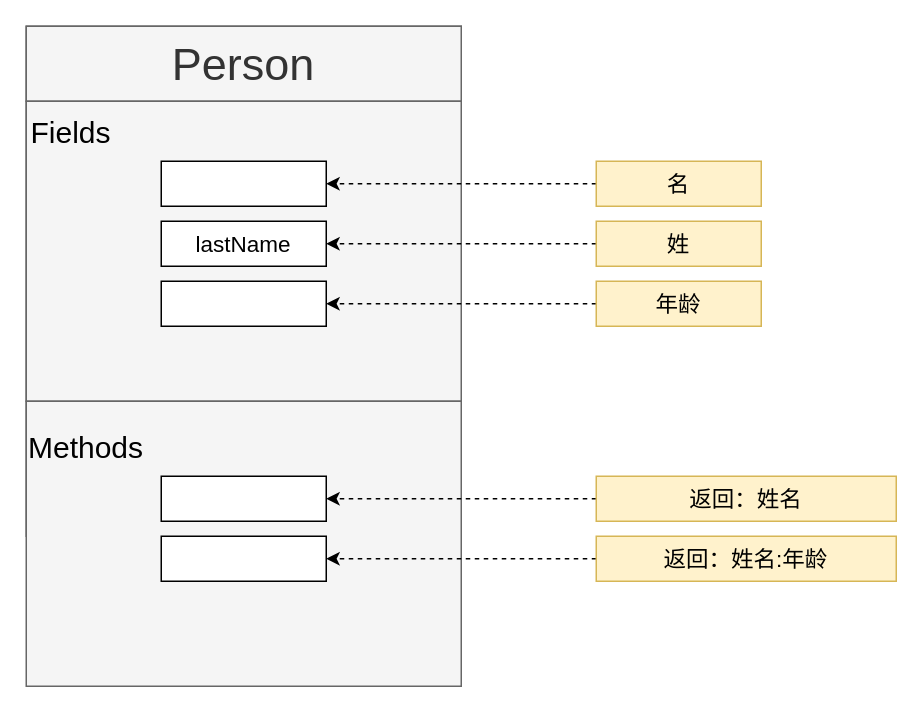
The diagram is 923 pixels wide and 713 high, and some of its shapes have lost their labels. Each missing label, with the box of its shape:
age: (160, 280, 326, 326)
firstName: (160, 160, 326, 206)
getName(): (160, 475, 326, 521)
say(): (160, 535, 326, 581)
